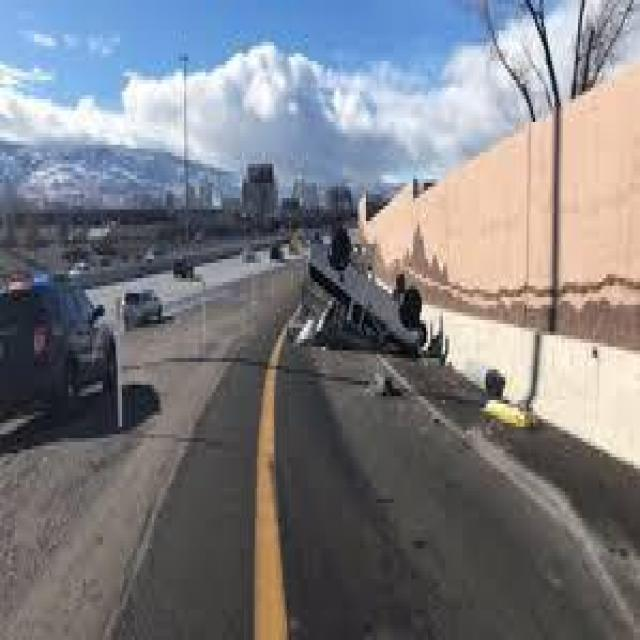accident: (298, 217, 428, 362)
